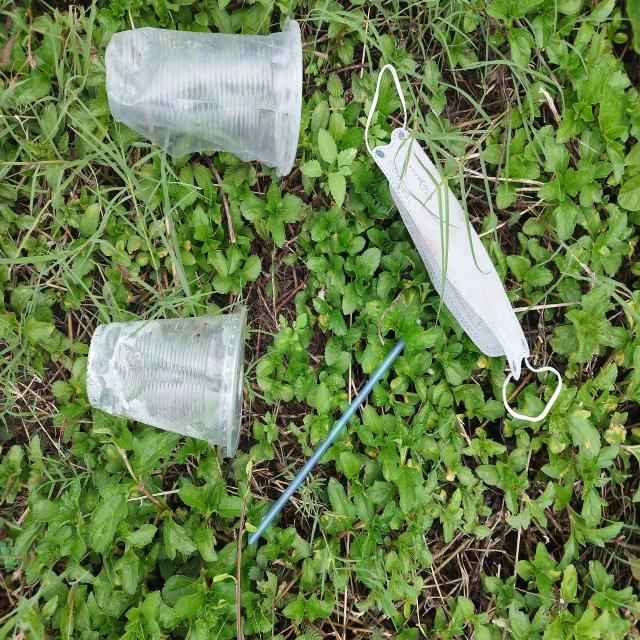drinking straw: (248, 338, 406, 545)
mask: (365, 64, 562, 422)
plastic glass: (104, 17, 302, 178), (85, 307, 248, 459)
